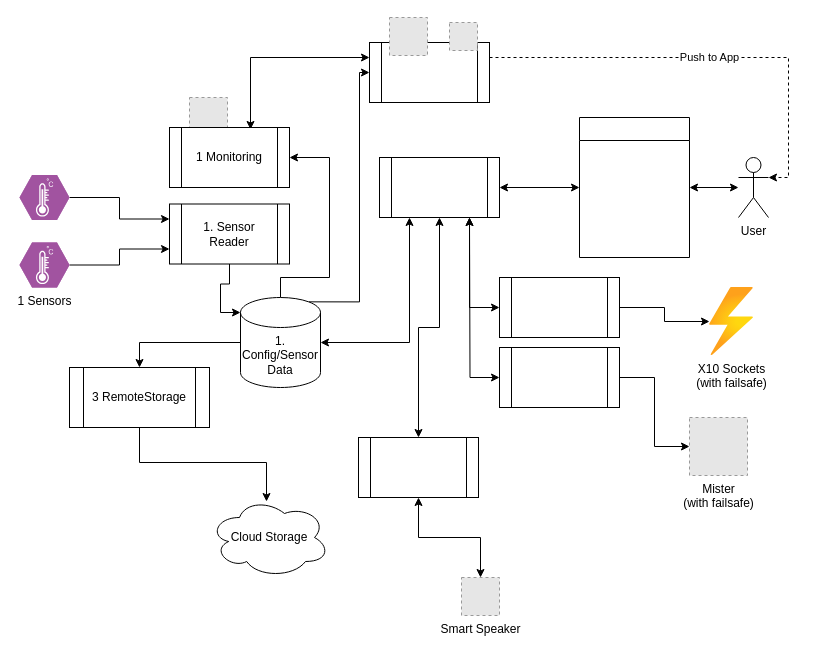
Some shapes in this 814 by 654 pixel diagram are drawn without their labels. Grey dashed boxes stand in for pictures. The shapes that lost their labels are listed below. From the top down, each one's centre as x and y in pixels, then its label:
At [429,72]: "1. Alerting".
At [439,187]: "2. Api".
At [634,187]: "2. UI".
At [559,307]: "5. Heating".
At [559,377]: "6. Moisture".
At [418,467]: "4. Smart Automation".
